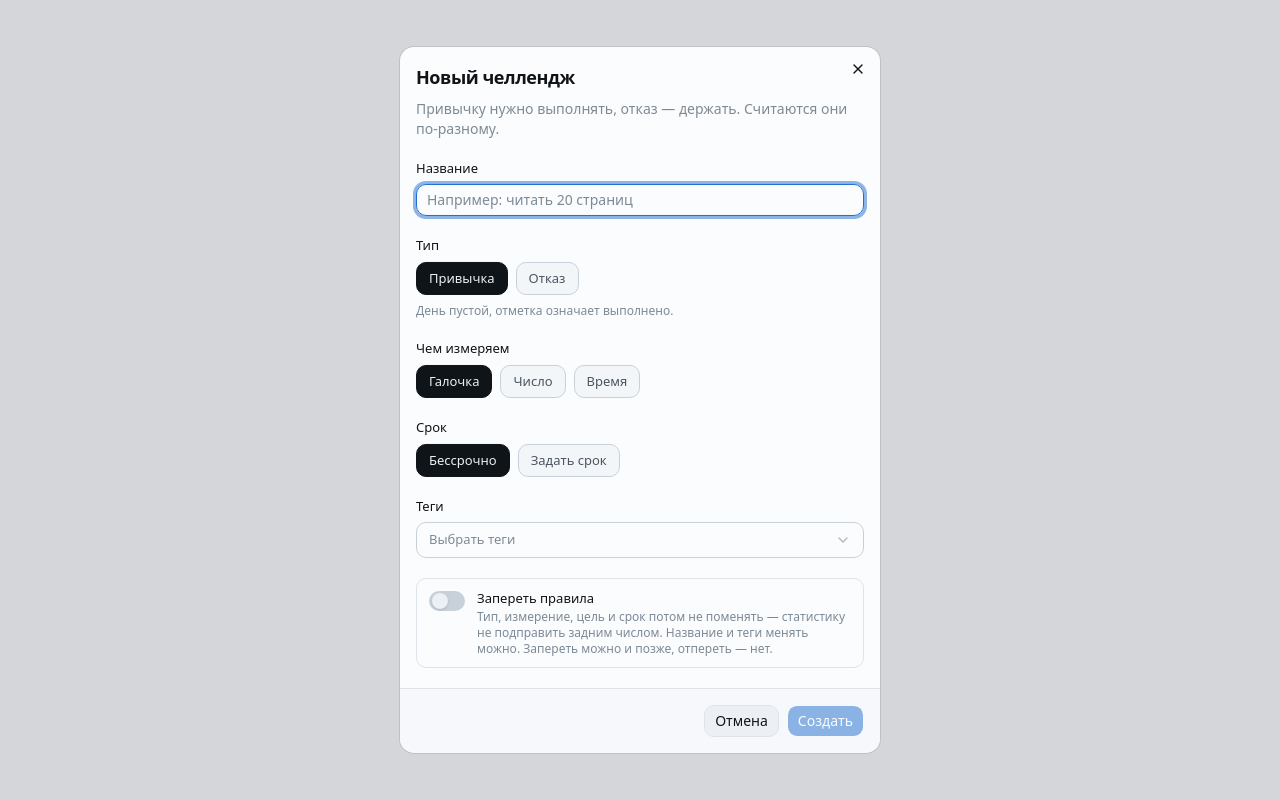
it: форма нового челленджа › у отказа подсказка — ответ вечером, а не «засчитывается сам» (срез 5а)
The image size is (1280, 800).
Click the button "Отказ": {"x": 547, "y": 278} [516,262,578,295]
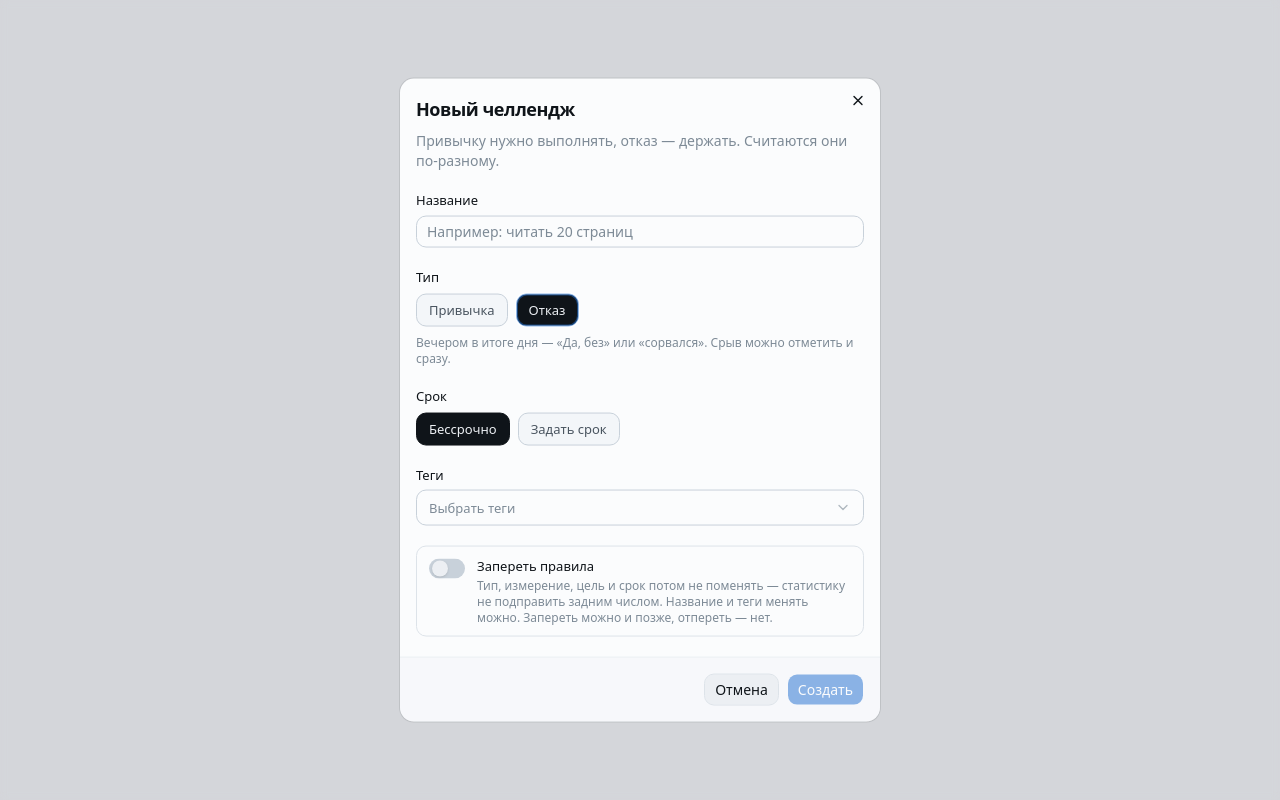
Expected: the text "Вечером в итоге дня — «Да, без» или «сорвался»" is shown, [416,333,854,366]
